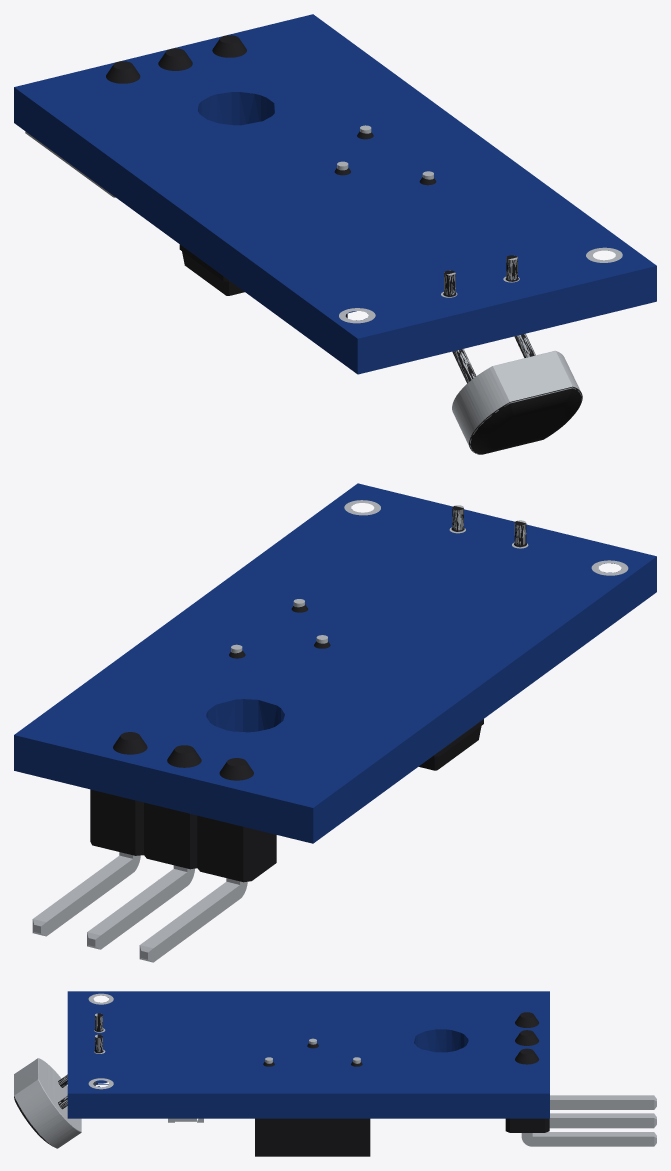
File: ldr-light-sensor.glb
The picture shows the model from 3 angles, top to bottom: view 1: azimuth 30°, elevation 25°; view 2: azimuth 150°, elevation 25°; view 3: azimuth 270°, elevation 25°; orthographic projection. The views are drawn at different scales.
Visible parts, largest first — view 1: part_5, part_1, part_3; view 2: part_5, part_1, part_3; view 3: part_5, part_3, part_1.
Boxes of the visible parts, <box> form: part_5: <box>14,14,656,374</box>; part_1: <box>106,35,582,454</box>; part_3: <box>25,125,622,454</box>; part_5: <box>14,483,656,843</box>; part_1: <box>90,506,526,882</box>; part_3: <box>32,500,628,962</box>; part_5: <box>67,991,549,1118</box>; part_3: <box>14,993,656,1148</box>; part_1: <box>14,1012,549,1156</box>.
Bounding box in the file's own units: 0.0147 × 0.0075 × 0.0389.
